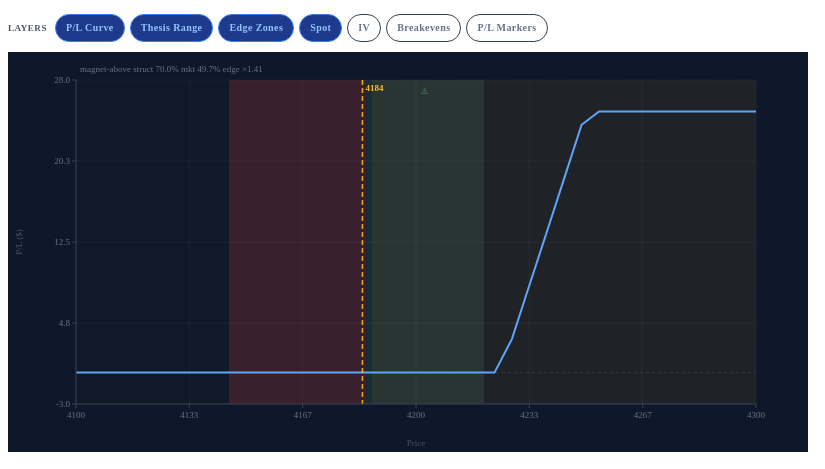
it: ProposalEdgeChart › click popover › clicking on an edge zone shows the zone popover
This screenshot has width=825, height=469.
Click the picture named "Proposal edge chart" at (408, 252), box [8, 52, 808, 452]
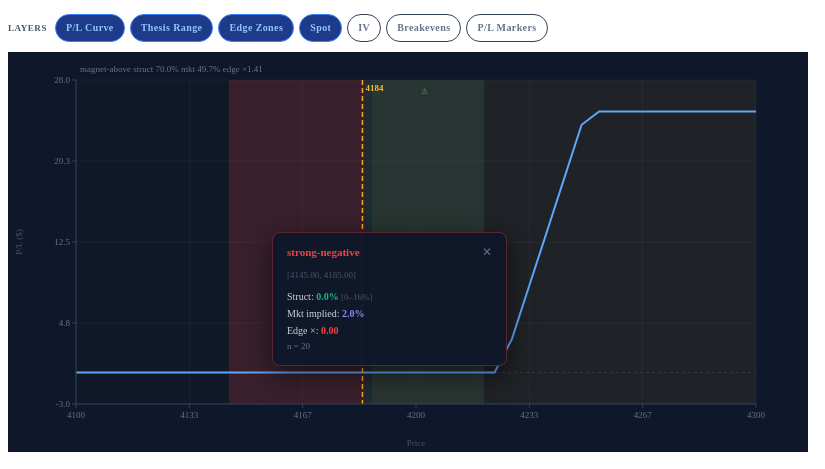
Result: the element with test id "zone-popover" is shown at [272, 232, 507, 366]
